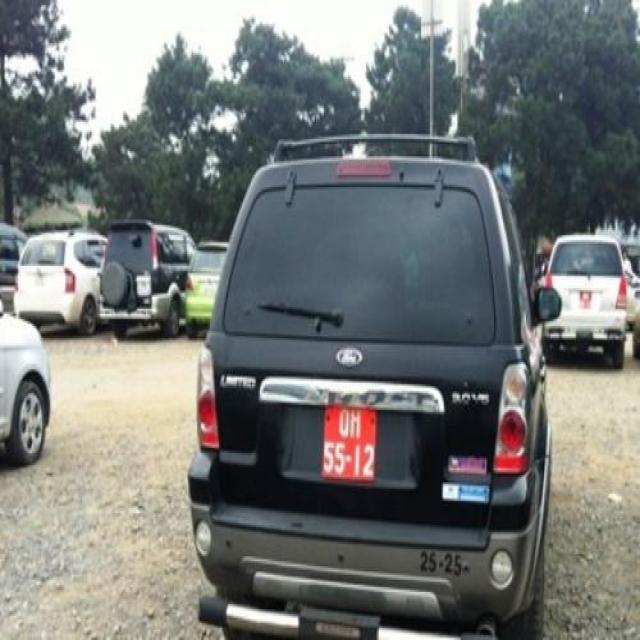License-Plates: (316, 398, 384, 490)
